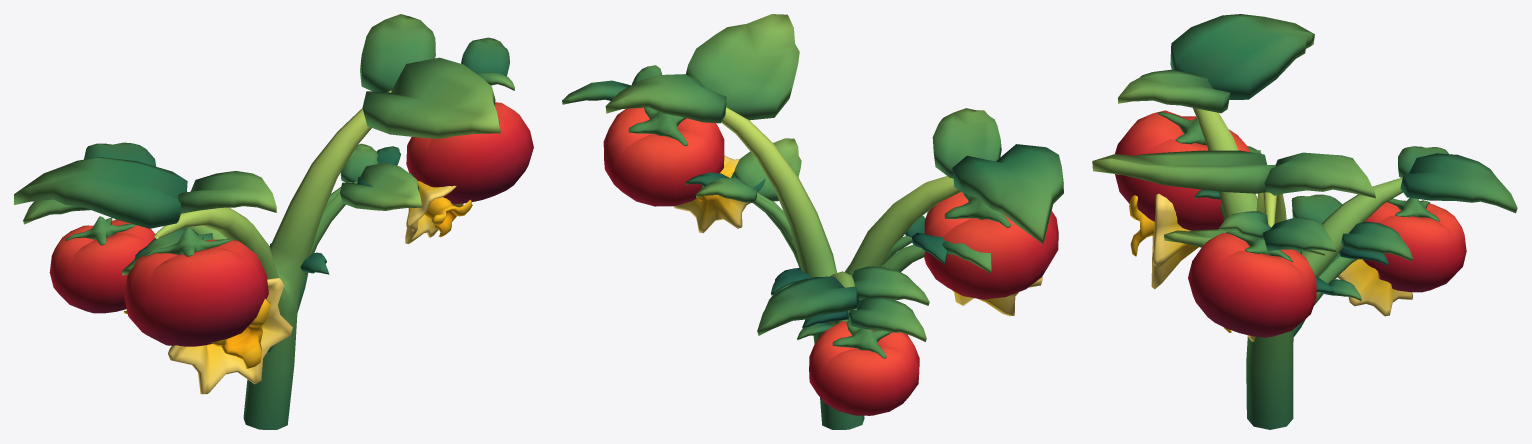
The model's file is Tomato.fbx.
The picture shows the model from 3 angles, left to right: view 1: azimuth 30°, elevation 25°; view 2: azimuth 150°, elevation 25°; view 3: azimuth 270°, elevation 25°; orthographic projection. The views are drawn at different scales.
Visible parts, largest first — view 1: LV3D, LV2D, Lv1D; view 2: LV3D, LV2D, Lv1D; view 3: LV3D, LV2D, Lv1D.
Part boxes in pixels (x1,y1,x2,y2): LV3D: (14,14,533,429); LV2D: (122,143,472,394); Lv1D: (134,146,400,352); LV3D: (562,14,1063,429); LV2D: (674,138,1042,340); Lv1D: (685,172,947,329); LV3D: (1092,14,1517,429); LV2D: (1129,146,1412,341); Lv1D: (1194,189,1388,336).
Bounding box in the file's own units: 1.29 × 0.8412 × 0.9551.
